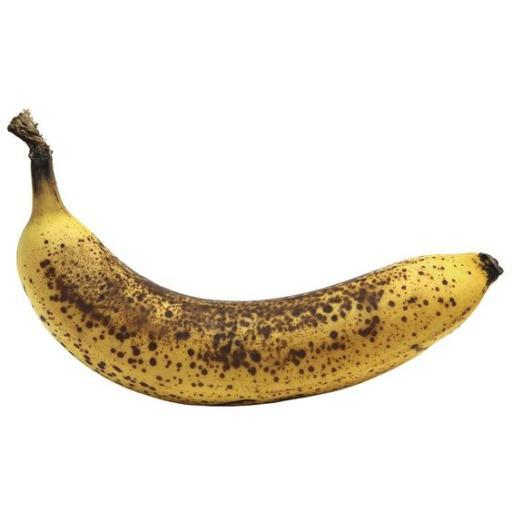banana: (10, 111, 502, 404)
